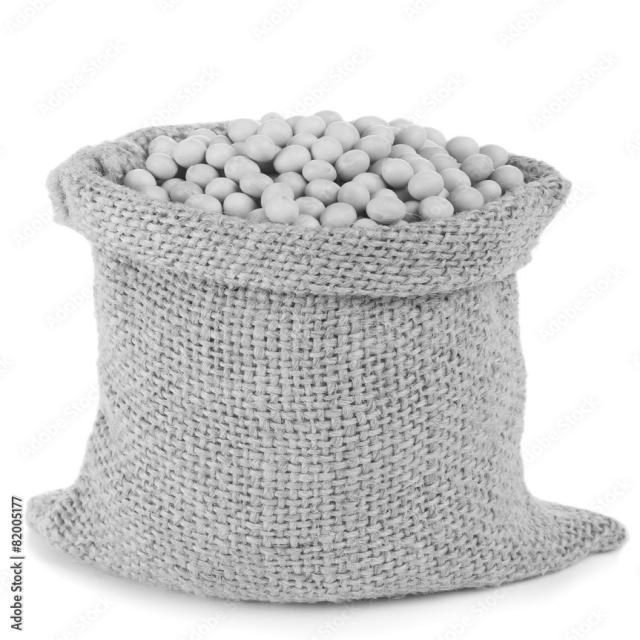sack: (26, 117, 625, 603)
